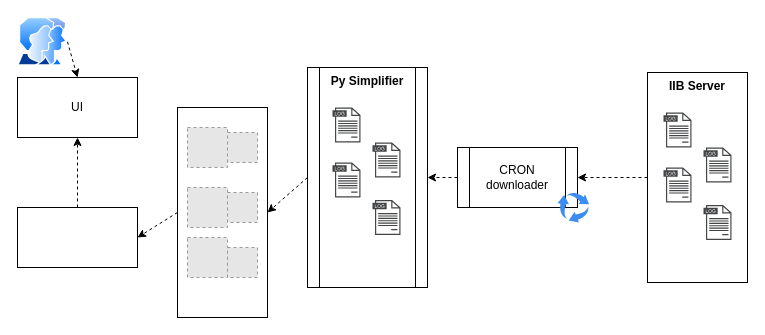
This 765x335 diagram has some shape labels left out. Grey dashed boxes stand in for pictures. Here are the shapes that lost their labels. From the top down, the centre of each, then its label:
At pixel 573 207: "Every 15 minutes".
At pixel 77 237: "Phython API".
